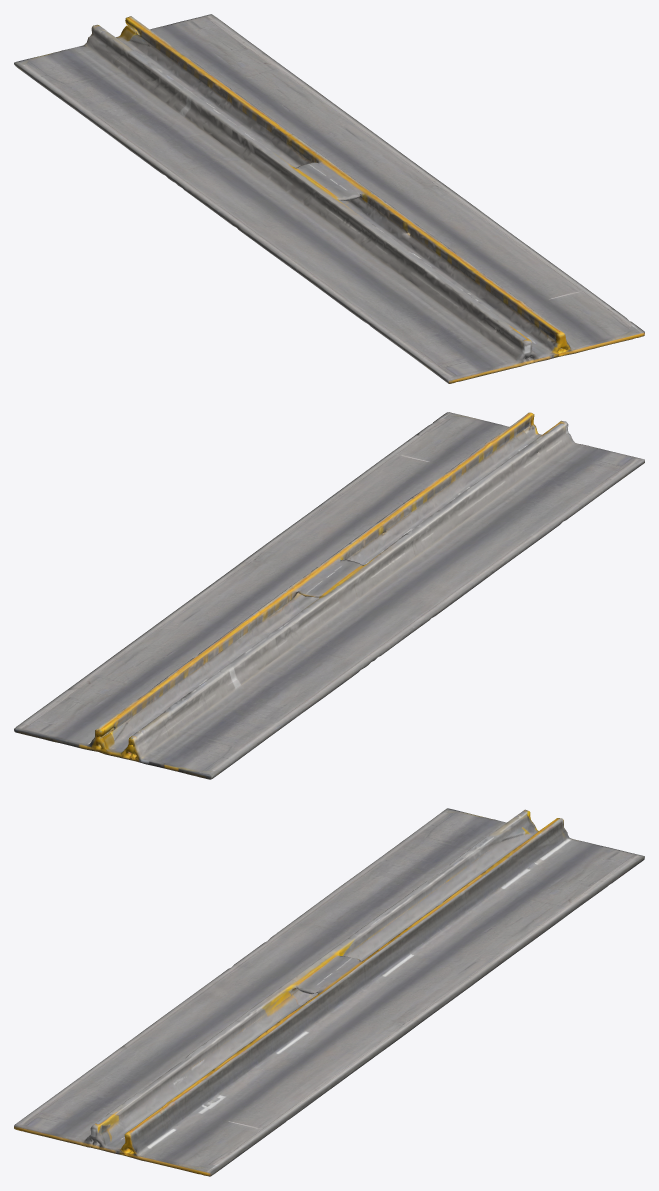
File: AI_Road4LaneStraight.fbx
3 views of the same model, one above another, from view 1: azimuth 30°, elevation 25°; view 2: azimuth 150°, elevation 25°; view 3: azimuth 330°, elevation 25° (orthographic).
Visible parts, largest first — view 1: Mesh_0; view 2: Mesh_0; view 3: Mesh_0.
Part boxes in pixels (x1,y1,x2,y2): Mesh_0: (14,14,644,383); Mesh_0: (14,412,644,779); Mesh_0: (14,808,644,1176).
Bounding box in the file's own units: 52.77 × 6.19 × 200.
Materials: 1 (1 with a texture image).
